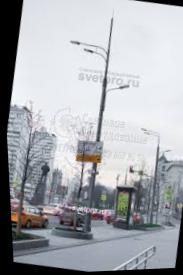Animal: (40, 4, 142, 242), (120, 122, 177, 231)
